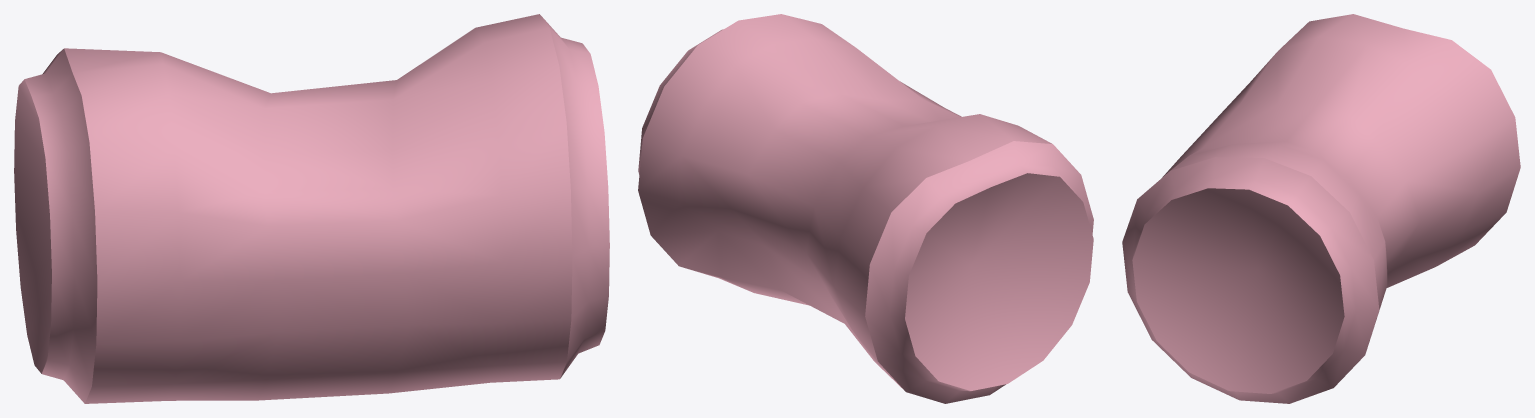
Rendered from Can_Empty.fbx.
3 views of the same model, side by side, from view 1: azimuth 30°, elevation 25°; view 2: azimuth 150°, elevation 25°; view 3: azimuth 270°, elevation 25° (orthographic). The views are drawn at different scales.
Parts seen in each view (by area): view 1: Can_Empty; view 2: Can_Empty; view 3: Can_Empty.
Part boxes in pixels (x1=…): Can_Empty: x1=14, y1=14, x2=609, y2=403; Can_Empty: x1=638, y1=14, x2=1093, y2=403; Can_Empty: x1=1122, y1=14, x2=1520, y2=403.
Bounding box in the file's own units: 27.57 × 15.58 × 22.7.
